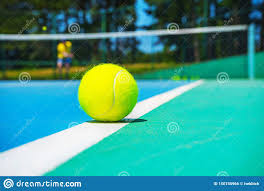tennis_ball: (78, 63, 138, 121)
